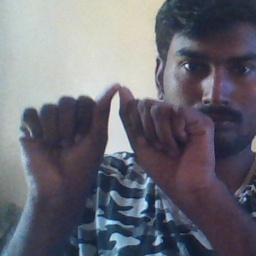A: (40, 77, 189, 178)
